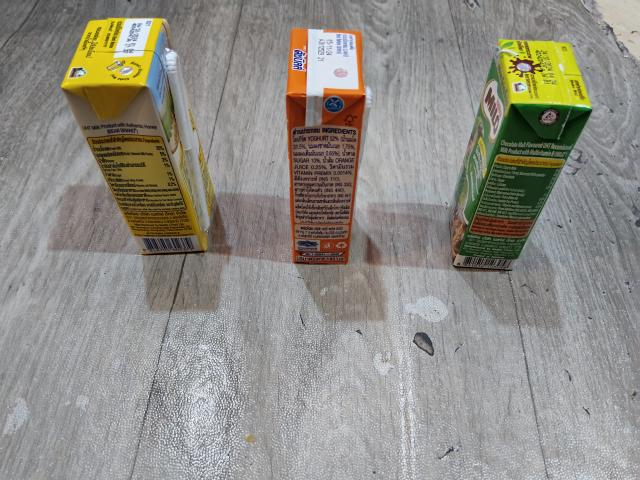drink_box: (57, 12, 226, 261), (443, 34, 602, 275), (282, 24, 370, 266)
